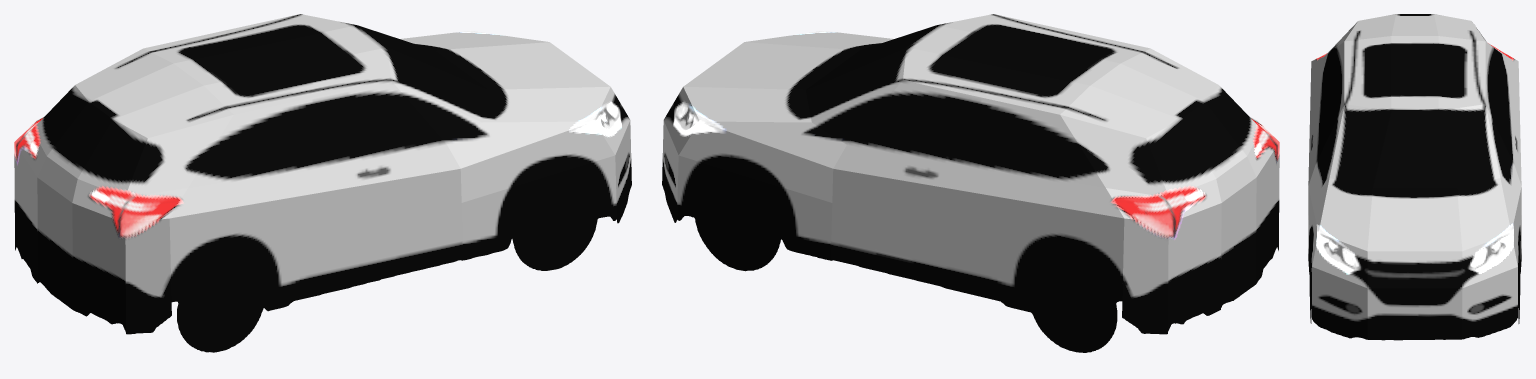
File: honda1.glb
3 renders of one model, left to right at view 1: azimuth 30°, elevation 25°; view 2: azimuth 150°, elevation 25°; view 3: azimuth 270°, elevation 25°, orthographic. The views are drawn at different scales.
Visible parts, largest first — view 1: Cube.002; view 2: Cube.002; view 3: Cube.002.
Boxes of the visible parts, left/top/right/bottom form: Cube.002: left=14, top=14, right=631, bottom=352; Cube.002: left=662, top=14, right=1279, bottom=352; Cube.002: left=1308, top=14, right=1521, bottom=340.
Bounding box in the file's own units: 4.52 × 1.74 × 1.96.
Materials: 5 (5 with a texture image).
